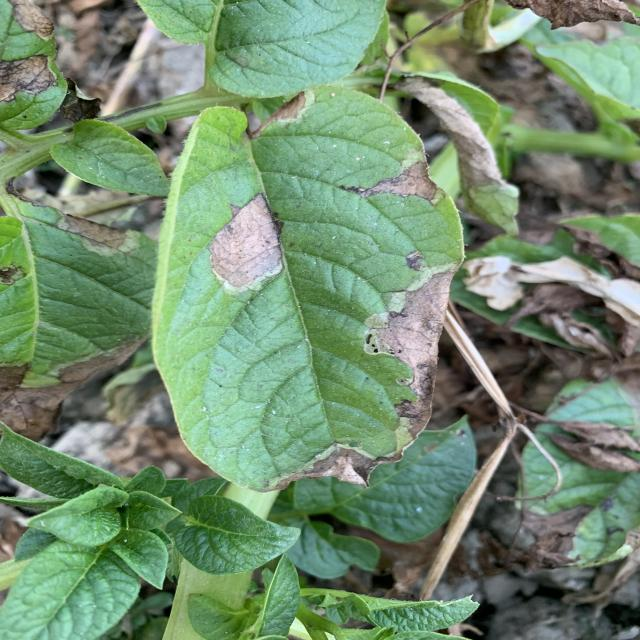lateblight: (363, 270, 455, 452), (210, 194, 283, 292), (277, 444, 402, 488), (345, 161, 437, 202), (248, 91, 308, 135)
